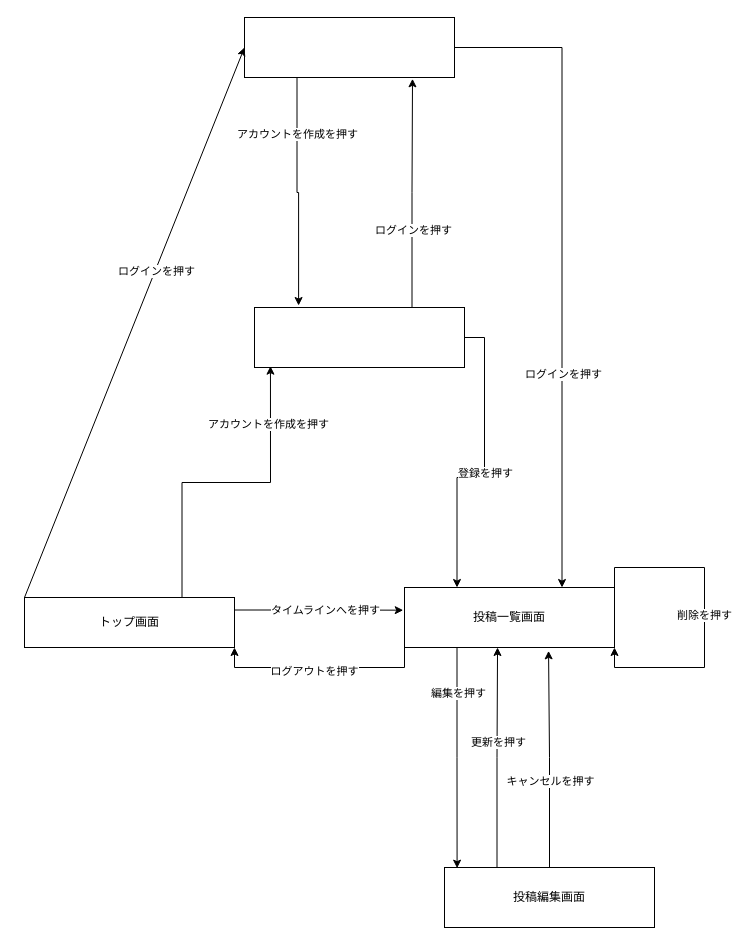
The diagram is 749 pixels wide and 945 high, and some of its shapes have lost their labels. The box of each missing label's shape, as (x1, y1, x2, y2) in pixels:
ユーザー登録画面: (254, 306, 464, 368)
ログイン画面: (244, 16, 454, 78)
